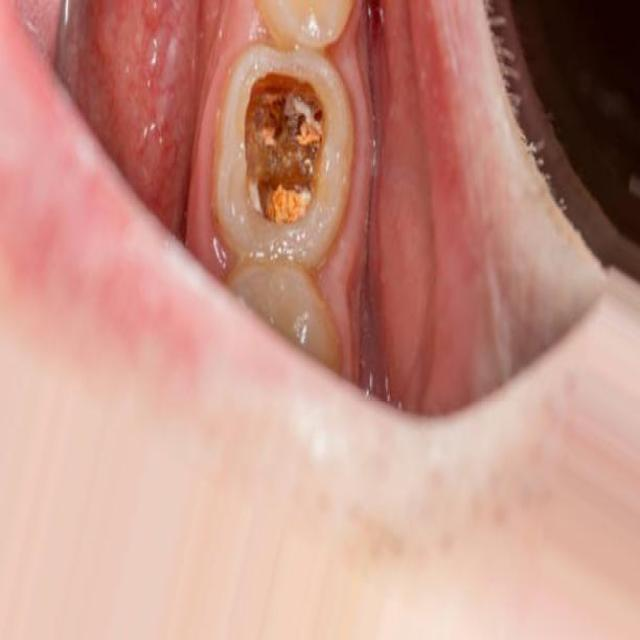caries: (230, 50, 352, 246)
